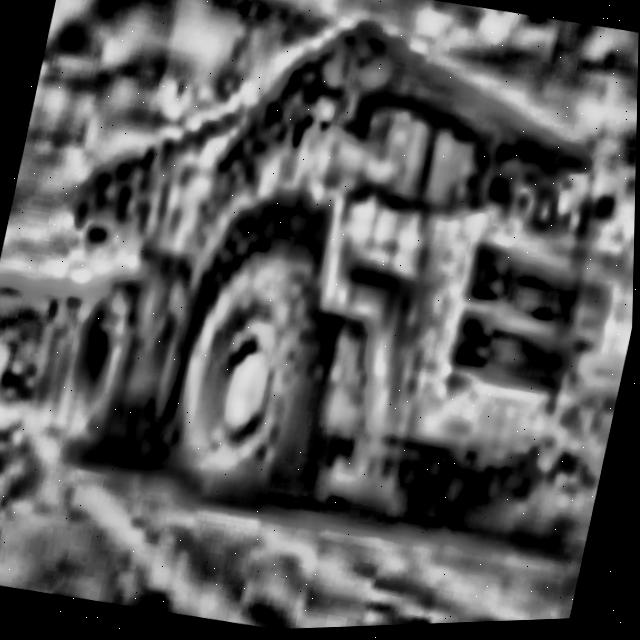dump_truck: (10, 0, 640, 605)
